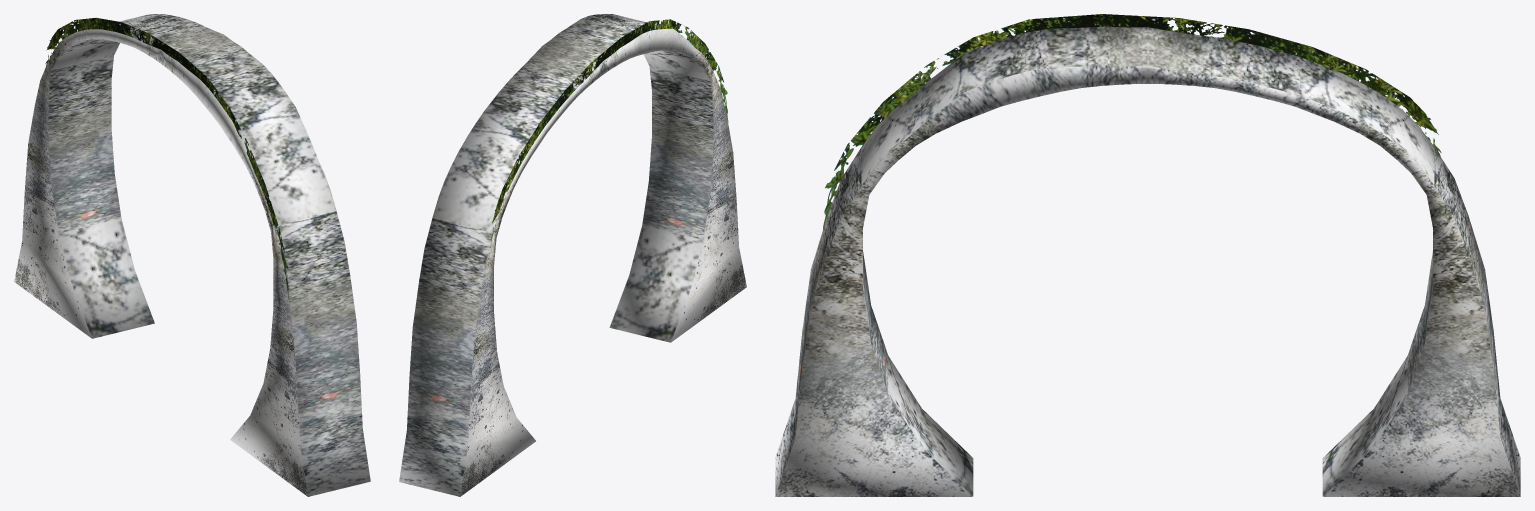
Rendered from Big_cliff.FBX.
3 renders of one model, left to right at view 1: azimuth 30°, elevation 25°; view 2: azimuth 150°, elevation 25°; view 3: azimuth 270°, elevation 25°, orthographic. The views are drawn at different scales.
Visible parts, largest first — view 1: Box001, Loft001; view 2: Box001, Loft001; view 3: Box001, Loft001.
Part boxes in pixels (x1,y1,x2,y2): Box001: [14, 14, 370, 496]; Loft001: [45, 17, 289, 301]; Box001: [399, 14, 746, 496]; Loft001: [490, 19, 728, 241]; Box001: [775, 26, 1520, 496]; Loft001: [823, 14, 1441, 229].
Bounding box in the file's own units: 35.78 × 191 × 290.
2 materials, 2 textured.
